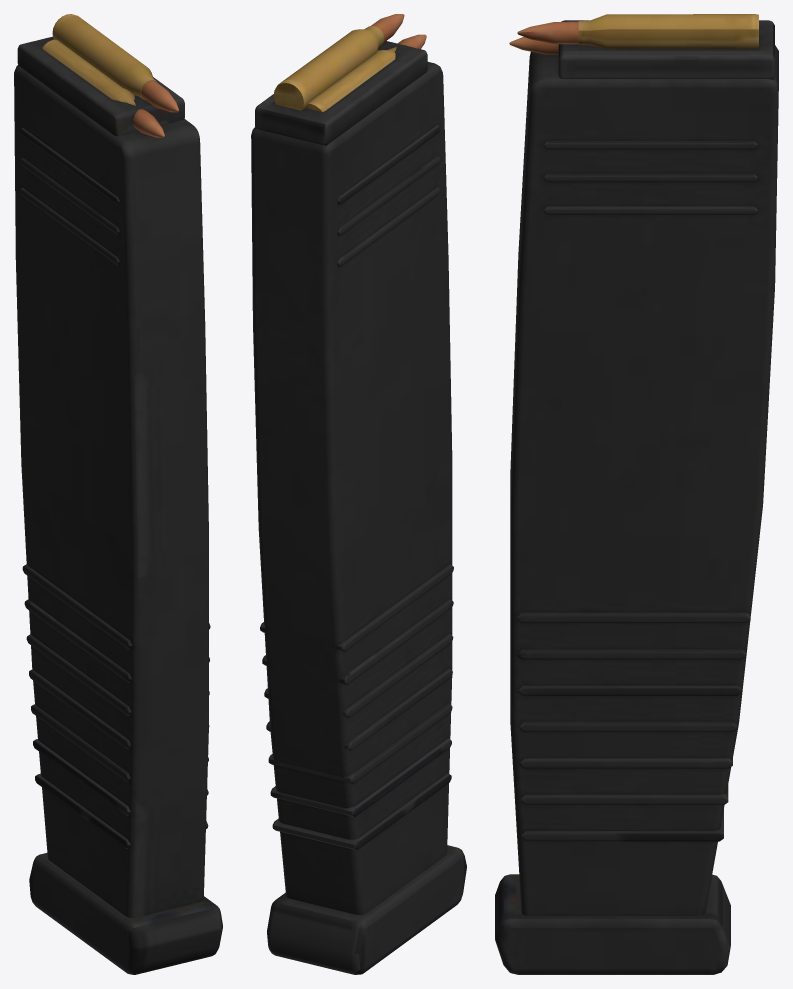
File: mag_ext.glb
The picture shows the model from 3 angles, left to right: view 1: azimuth 30°, elevation 25°; view 2: azimuth 150°, elevation 25°; view 3: azimuth 270°, elevation 25°; orthographic projection. The views are drawn at different scales.
Parts seen in each view (by area): view 1: body; view 2: body; view 3: body.
Boxes of the visible parts, x1,y1,x2,y2 form: body: (14,14,222,974); body: (251,14,466,974); body: (495,14,778,974).
Size of the model in its own units: 0.0285 by 0.2593 by 0.0708.
Materials: 1 (1 with a texture image).
